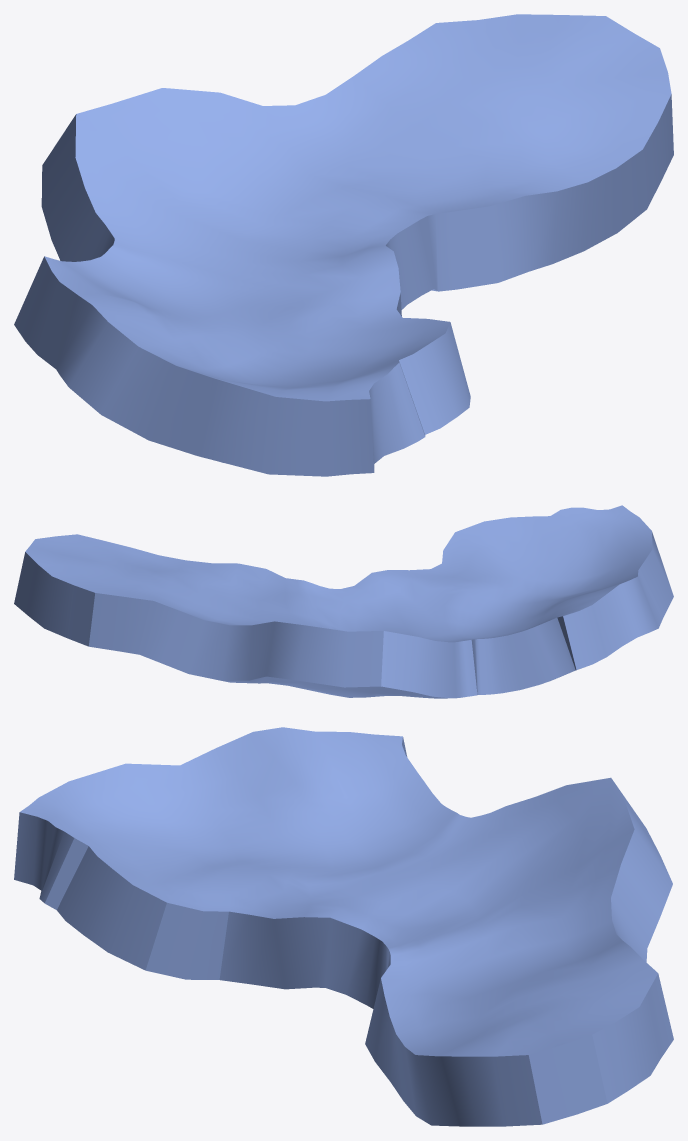
Rendered from pond.fbx.
The picture shows the model from 3 angles, top to bottom: view 1: azimuth 30°, elevation 25°; view 2: azimuth 150°, elevation 25°; view 3: azimuth 270°, elevation 25°; orthographic projection. The views are drawn at different scales.
Parts seen in each view (by area): view 1: Pond; view 2: Pond; view 3: Pond.
Part boxes in pixels (left/top/right/bottom): Pond: left=14, top=14, right=673, bottom=476; Pond: left=14, top=505, right=673, bottom=698; Pond: left=14, top=727, right=673, bottom=1126.
Size of the model in its own units: 12899 by 2692 by 10653.
